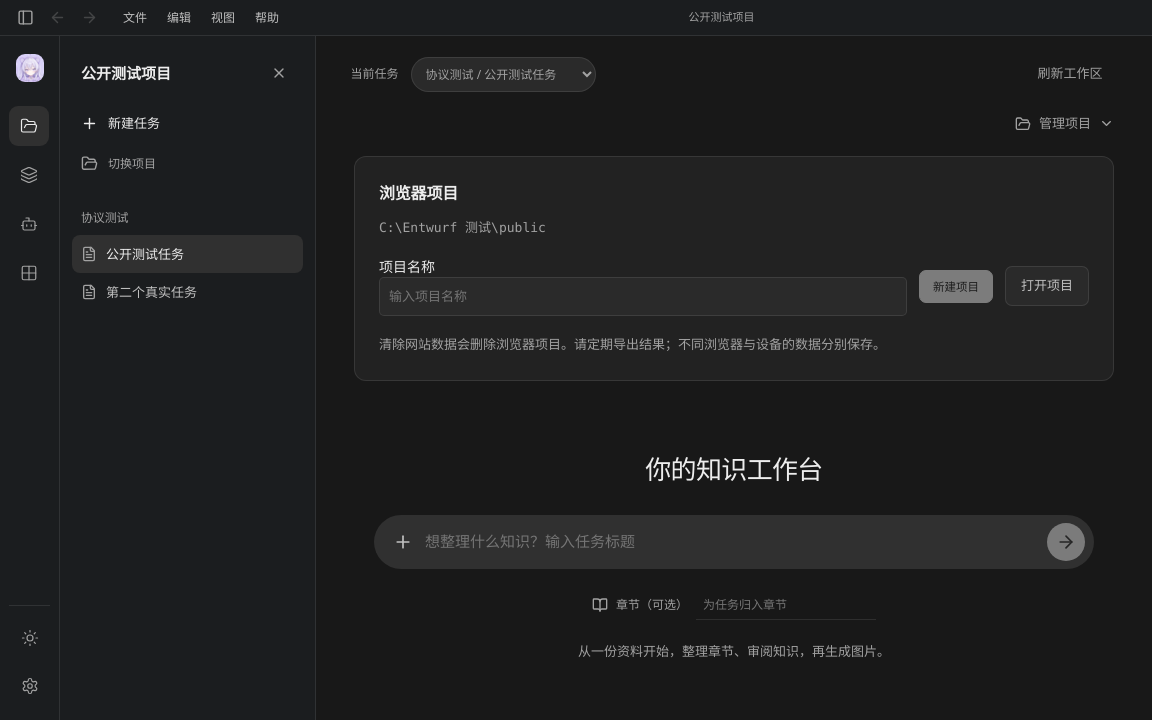
toggles the real task sidebar and navigates backwards and forwards without breadcrumbs
Check: the dropdown labelled "当前任务" is shown, box [411,56,596,92]
Check: the element named "任务侧栏" is shown, box [60,36,316,719]
What coordinates should you click on to do the following:
click the button named "切换任务侧栏"
I would click on:
 (25, 18)
Its box is [10,4,40,32].
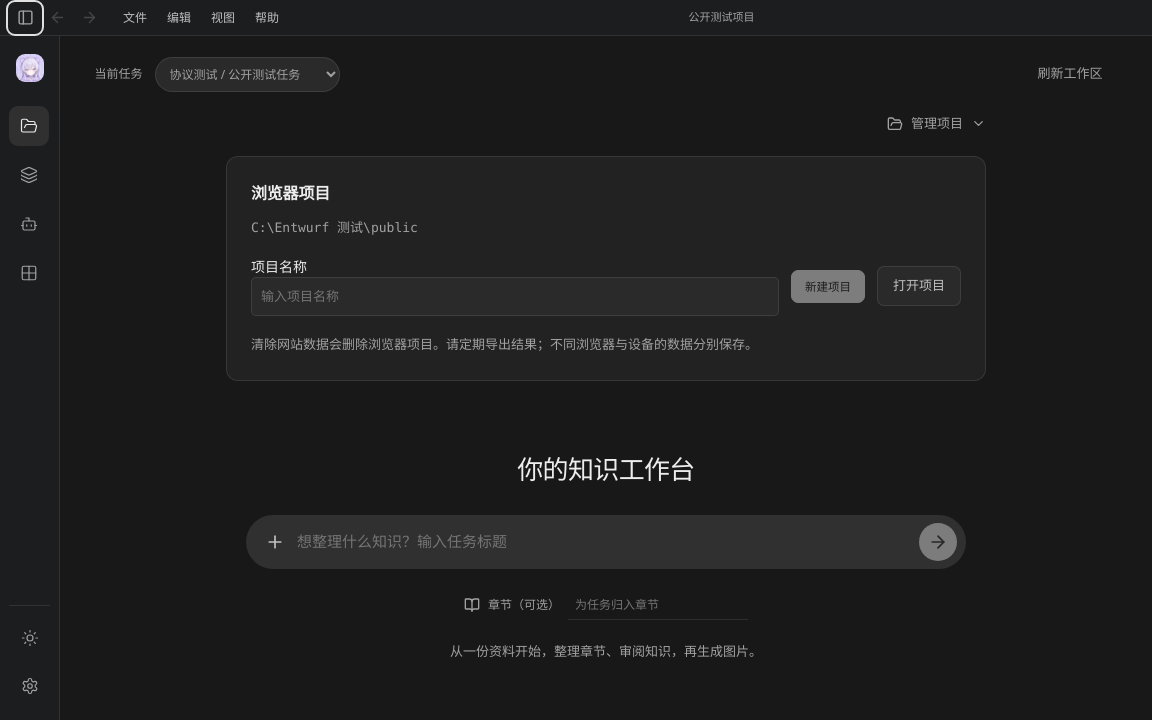
Check: the element "任务侧栏" is gone
What coordinates should you click on to do the following:
click the button named "资料与风格"
I would click on:
 (29, 175)
Its box is [9,155,49,195].
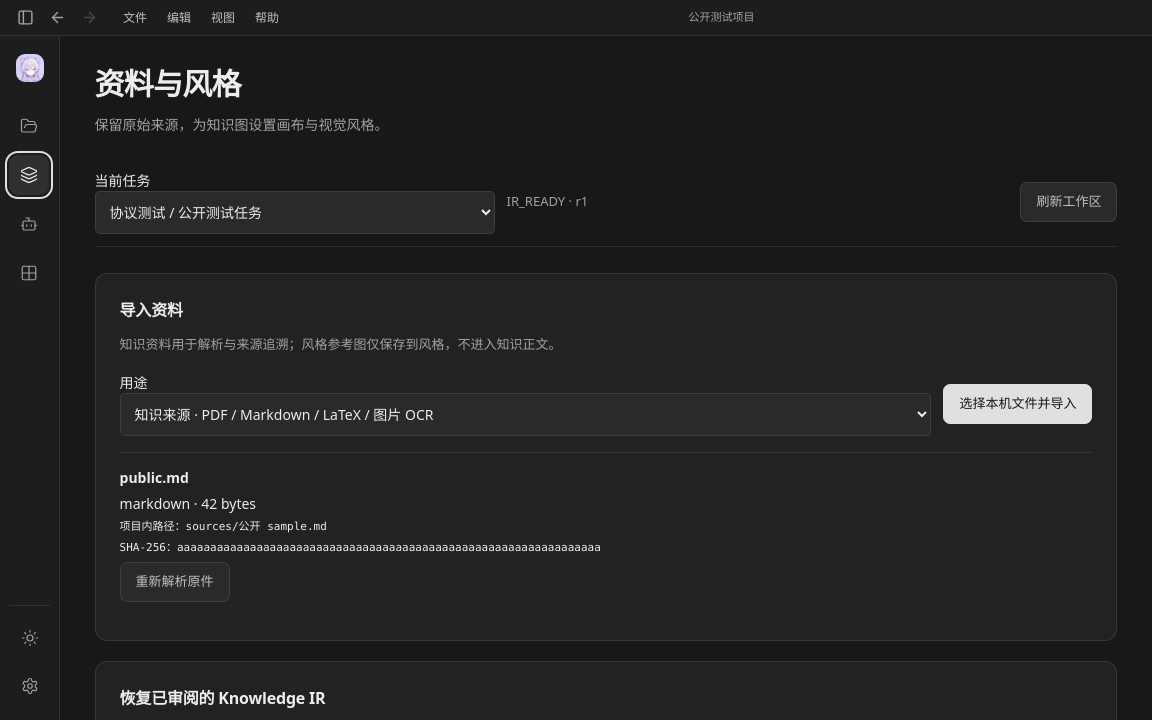
What coordinates should you click on to do the following:
click the button named "后退"
I would click on:
 (57, 18)
Its box is [42,4,72,32].
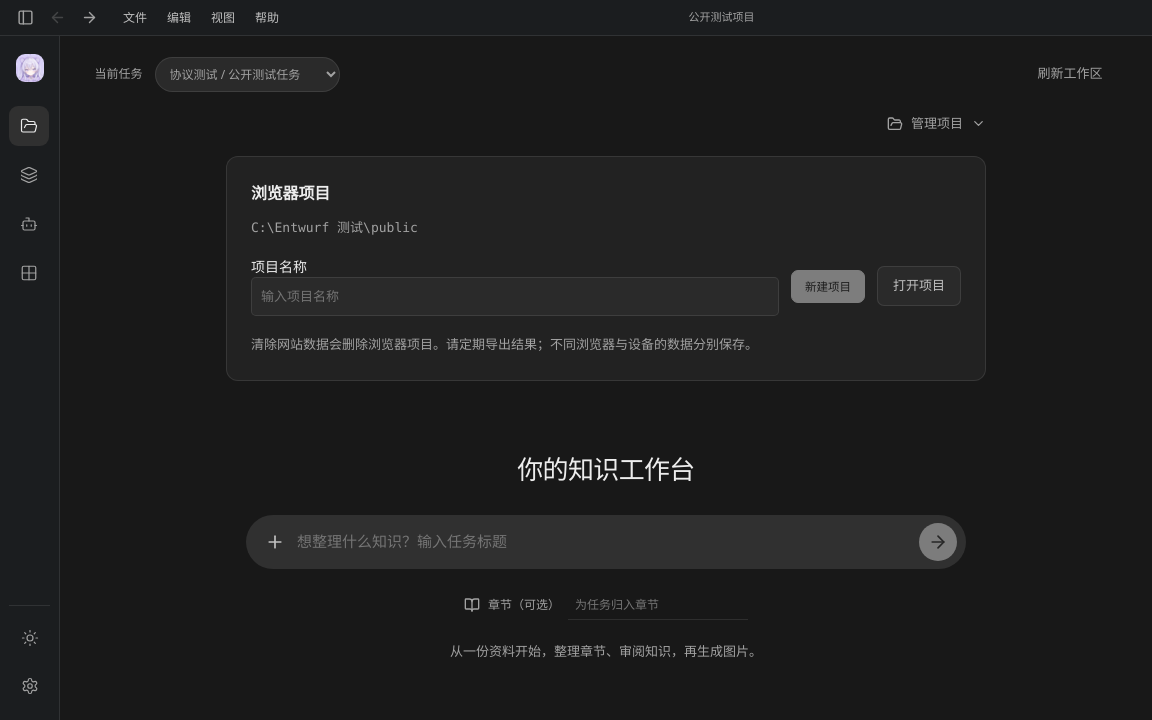
Check: the heading "你的知识工作台" is shown, box [517,451,695,487]
What coordinates should you click on to do the following:
click the button named "前进"
I would click on:
 (89, 18)
Its box is [74,4,104,32].
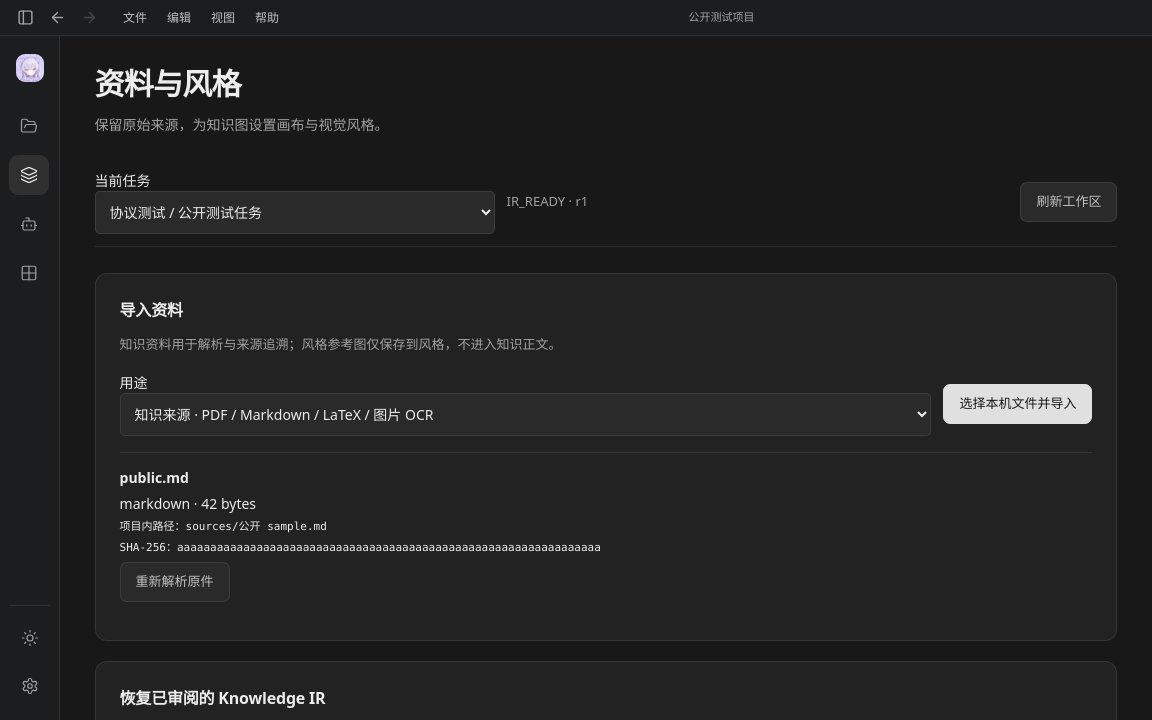
Check: the heading "导入资料" is shown, box [120,299,183,321]
